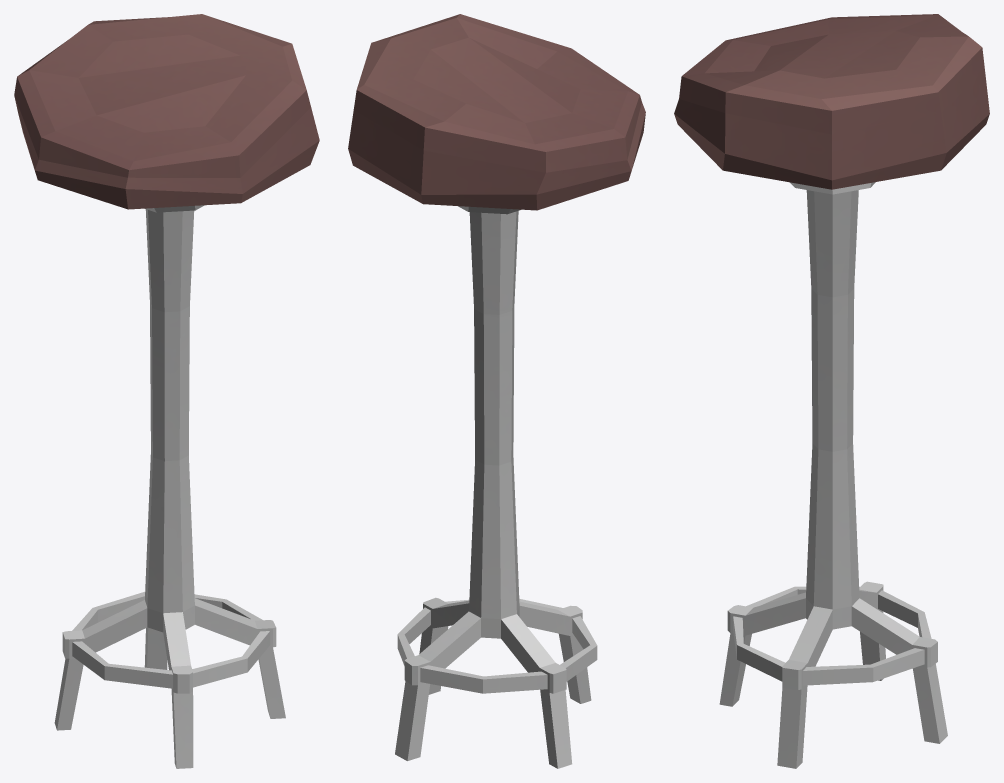
File: bar_stool.glb
3 views of the same model, side by side, from view 1: azimuth 30°, elevation 25°; view 2: azimuth 150°, elevation 25°; view 3: azimuth 270°, elevation 25° (orthographic). The views are drawn at different scales.
Parts seen in each view (by area): view 1: bar_stool; view 2: bar_stool; view 3: bar_stool.
Part boxes in pixels (box(x1,y1,x2,y2)): bar_stool: box(14, 14, 319, 768); bar_stool: box(348, 14, 645, 768); bar_stool: box(674, 14, 989, 768).
Bounding box in the file's own units: 0.2275 × 0.5371 × 0.2275.
Materials: 1 (1 with a texture image).
